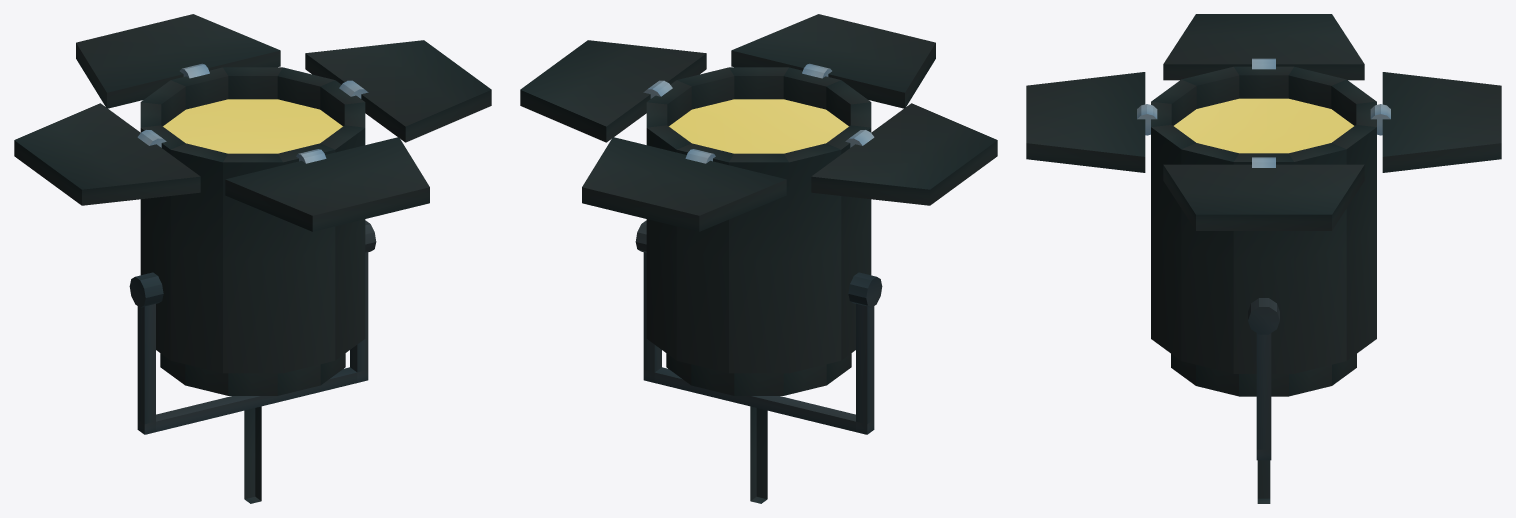
Rendered from spotlight-theater-lakescorp.glb.
3 views of the same model, side by side, from view 1: azimuth 30°, elevation 25°; view 2: azimuth 150°, elevation 25°; view 3: azimuth 270°, elevation 25° (orthographic).
Parts seen in each view (by area): view 1: Cubo; view 2: Cubo; view 3: Cubo.
Part boxes in pixels (<box>): Cubo: <box>14,14,491,503</box>; Cubo: <box>520,14,997,503</box>; Cubo: <box>1026,14,1501,503</box>.
Size of the model in its own units: 4.07 by 3.7 by 4.07.
1 material, 1 textured.
